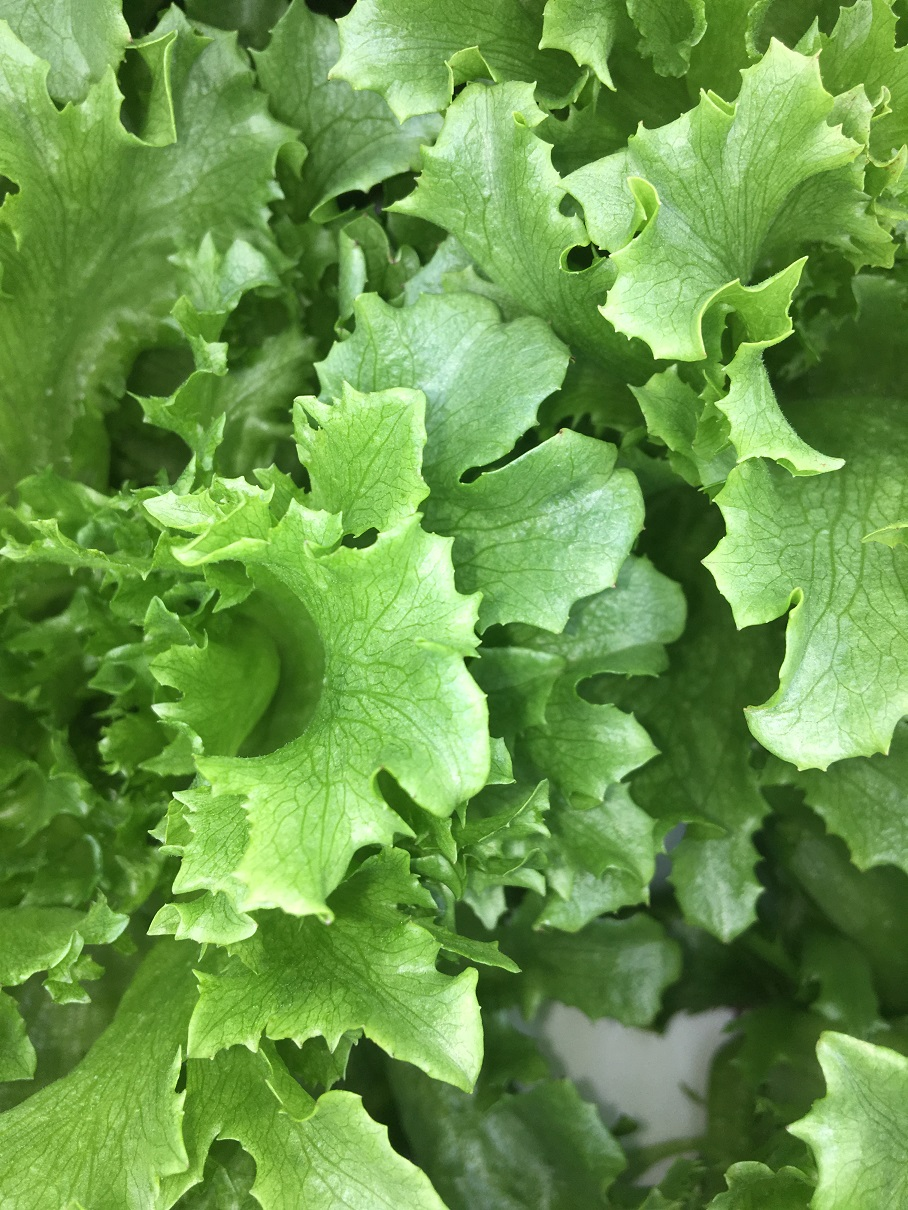tipburn: (545, 415, 584, 448), (382, 242, 416, 277), (121, 27, 154, 57), (340, 233, 377, 259)
